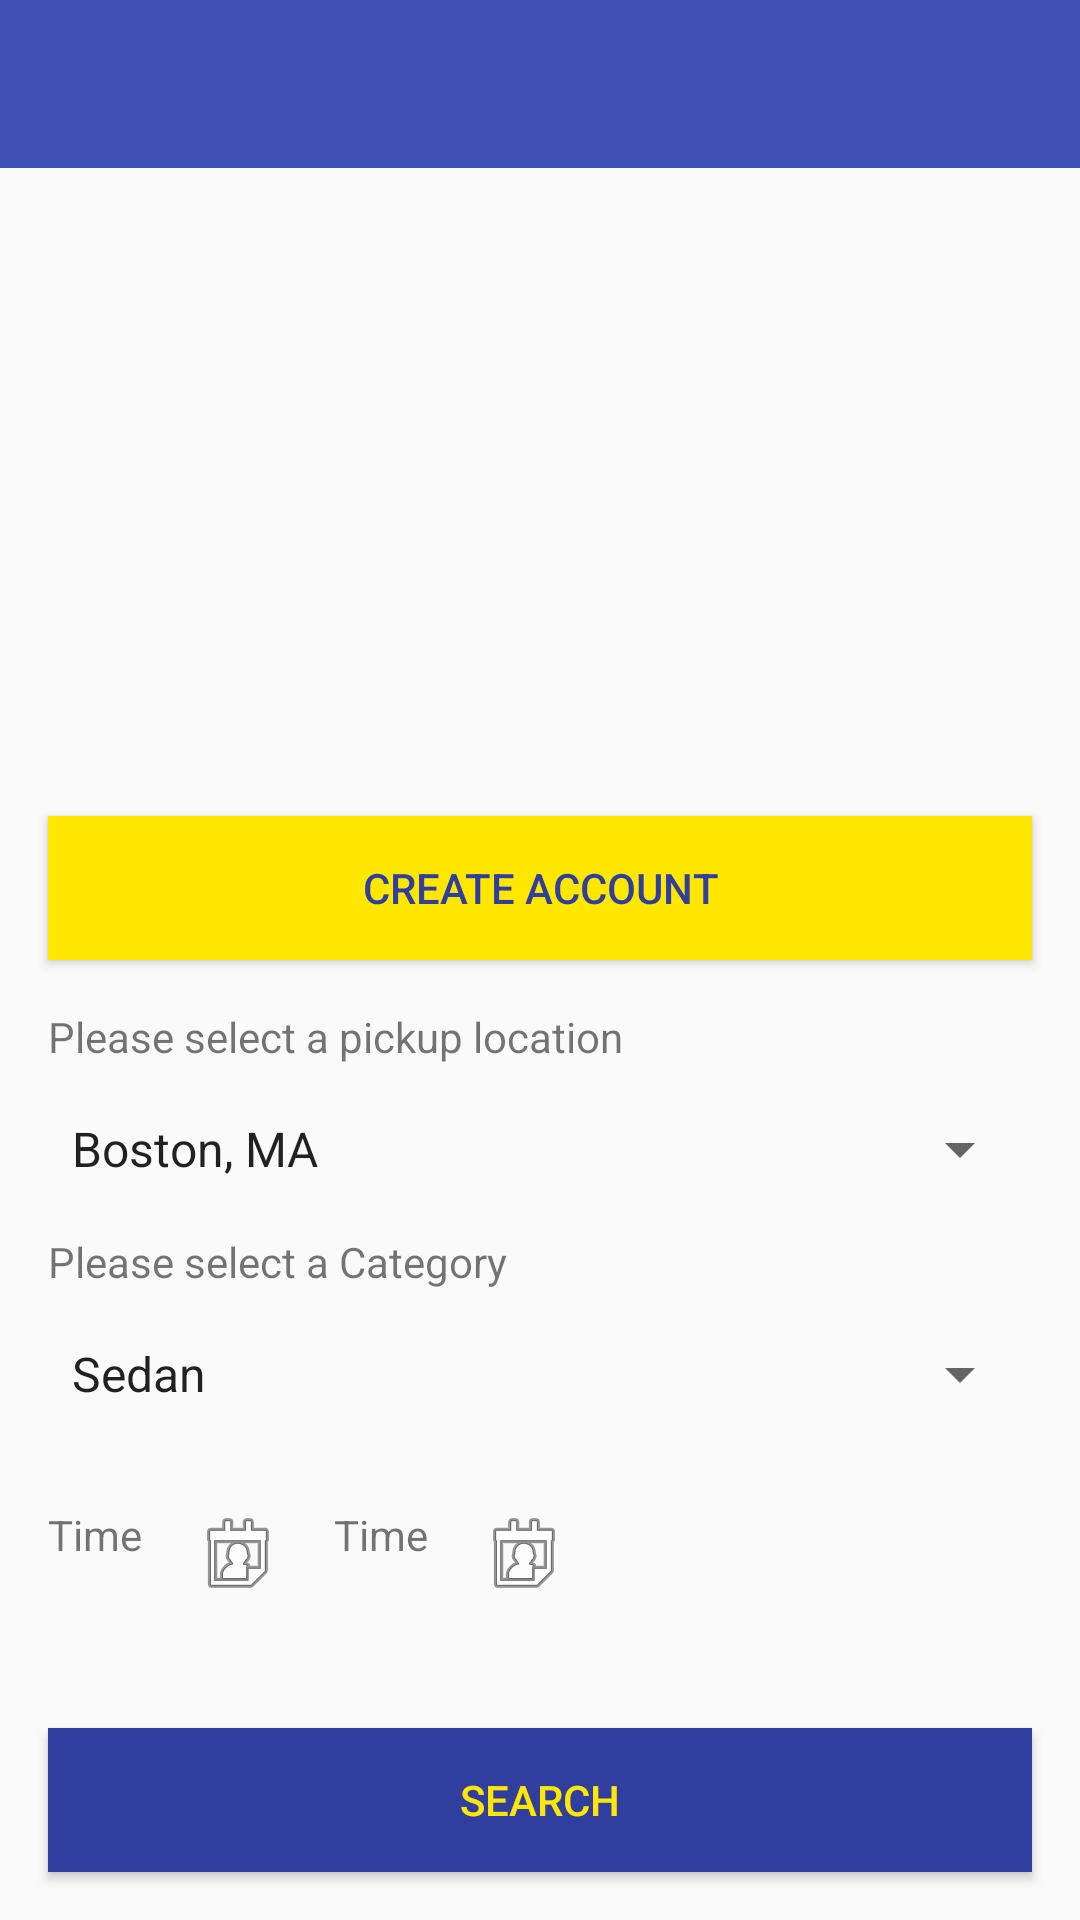

Locate icon controls on the screen. Image size 1080x1920, boxes as (x1, y1, x2, y2).
calendar: (207, 1518, 269, 1588), (493, 1518, 555, 1588)
